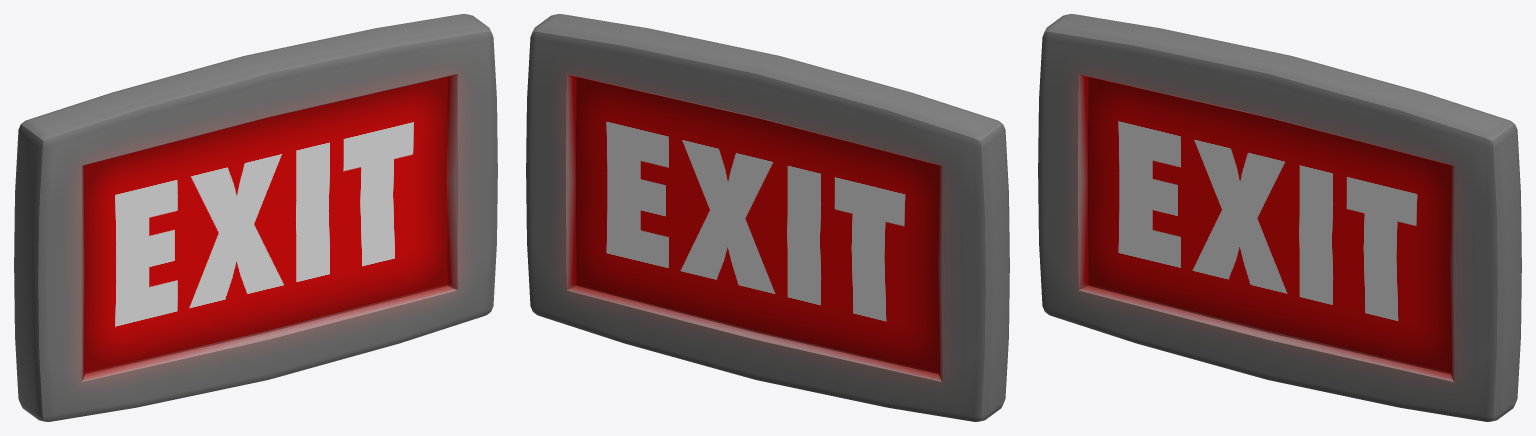
The model's file is exit sign.glb.
3 views of the same model, side by side, from view 1: azimuth 30°, elevation 25°; view 2: azimuth 150°, elevation 25°; view 3: azimuth 330°, elevation 25° (orthographic).
Visible parts, largest first — view 1: Exit; view 2: Exit; view 3: Exit.
Boxes of the visible parts, <box> form: Exit: <box>14,14,497,421</box>; Exit: <box>526,14,1009,421</box>; Exit: <box>1038,14,1521,421</box>.
Size of the model in its own units: 0.6065 by 0.389 by 0.062.
Materials: 1 (1 with a texture image).
